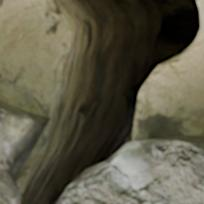broken_brick: (67, 135, 203, 203), (0, 100, 51, 203)
crack: (2, 0, 202, 203)
